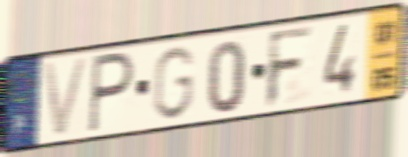0: (204, 35, 248, 116)
4: (322, 21, 359, 98)
F: (263, 23, 316, 112)
G: (150, 43, 198, 123)
P: (86, 49, 137, 136)
V: (40, 53, 92, 142)
